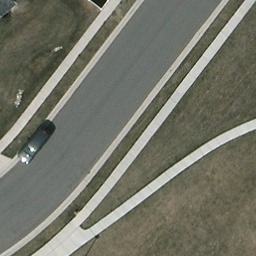car: (15, 127, 50, 165)
